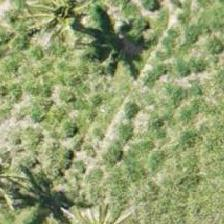coconut_tree: (26, 0, 116, 73)
